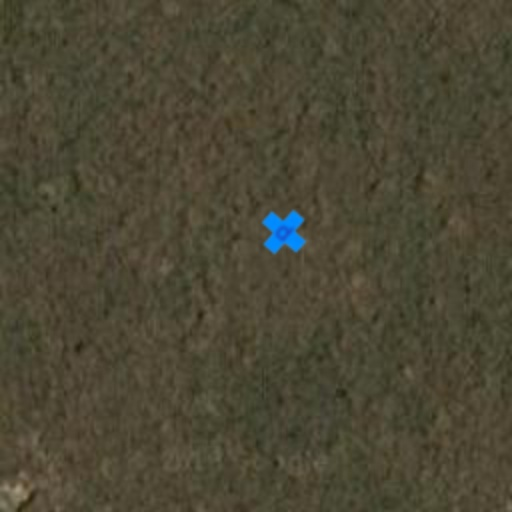cross: (250, 198, 318, 266)
